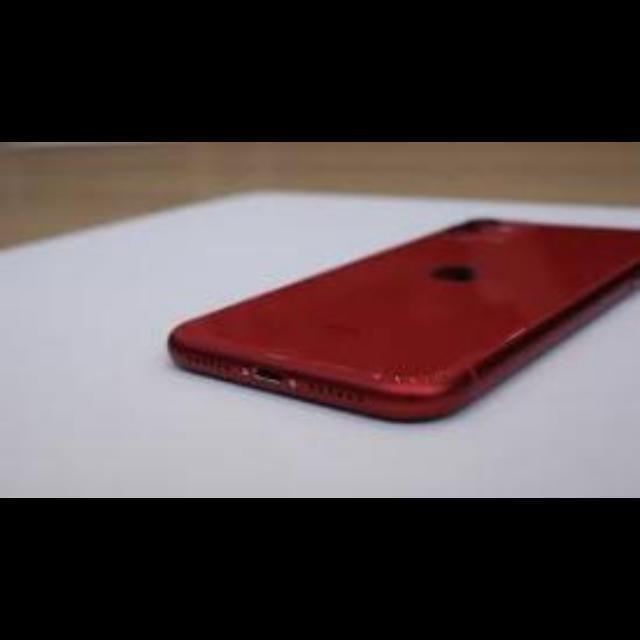PhoneUse: (167, 219, 639, 423)
